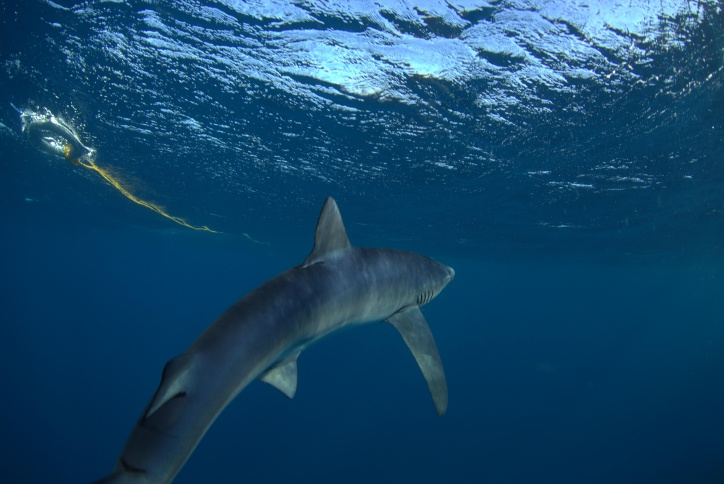Azul: (103, 188, 496, 484)
